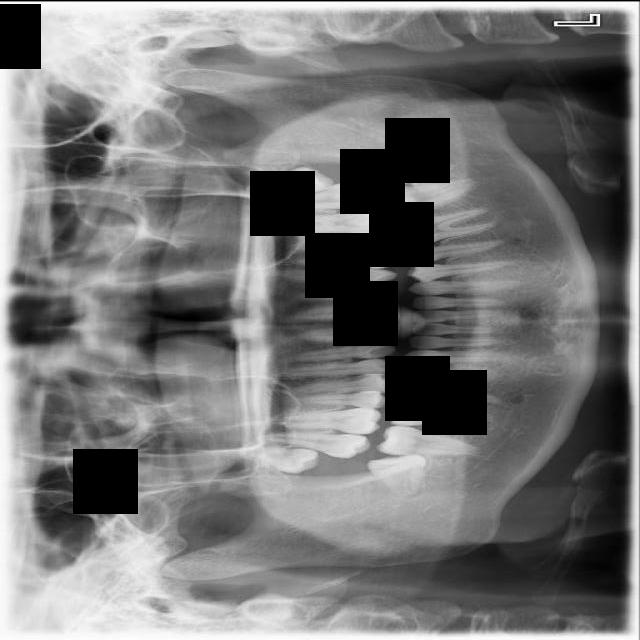3M ESPE Implant: (238, 442, 321, 475)
73: (587, 24, 598, 32)
BioHorizons Implant: (266, 181, 373, 211)
BioLife Implant: (240, 162, 336, 199)
Biomet 3i Implant: (367, 154, 454, 189)
Blue Sky Bio Implant: (375, 176, 478, 220)
Caries: (260, 432, 372, 459)
Implant: (376, 424, 479, 455)
Keystone Dental Implant: (360, 440, 429, 501)
